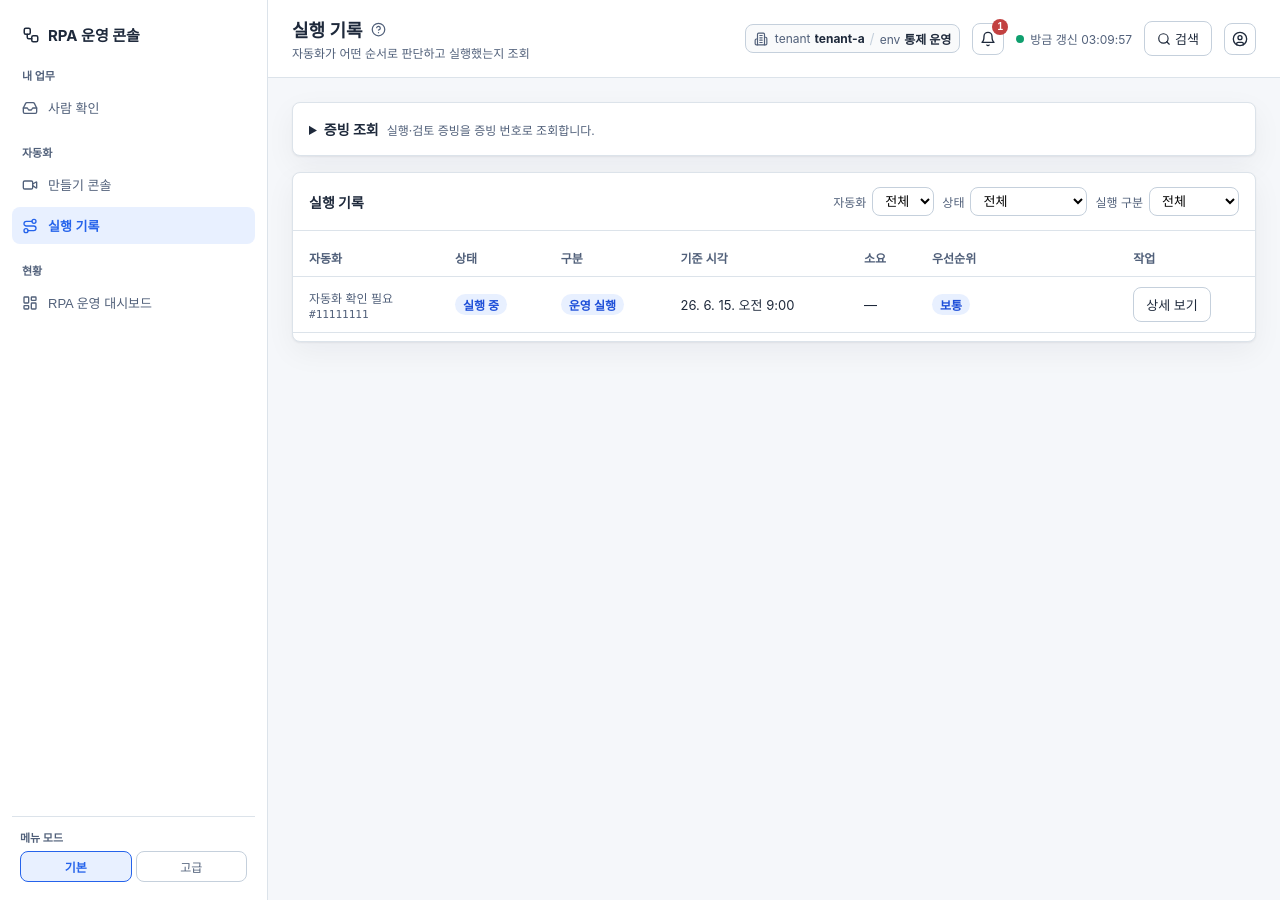
Test: 실행 상세 상태 패널 — 터미널 상태(F3) › running → 관찰 다음 행동 CTA를 노출하고 완료/복구 CTA는 숨긴다
Click the button with aria-label "실행 추적 상세 보기" at (1172, 304), box [1133,287,1211,322]
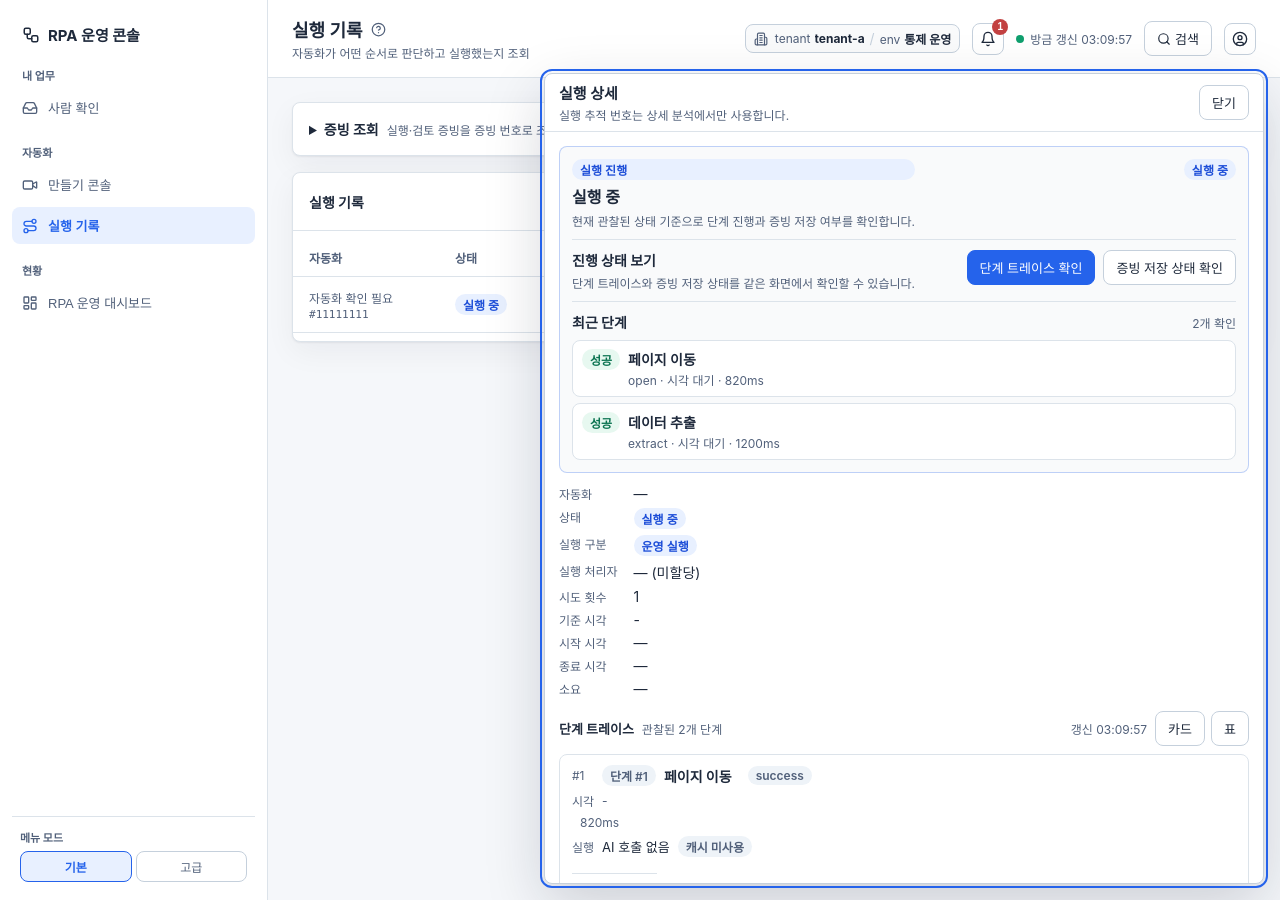
Now the text "시도 횟수" is shown, box [559,590,606,605]
Now the heading "실행 중" is shown, box [572,187,620,207]
Now the text "진행 상태 보기" is shown, box [572,252,656,269]
